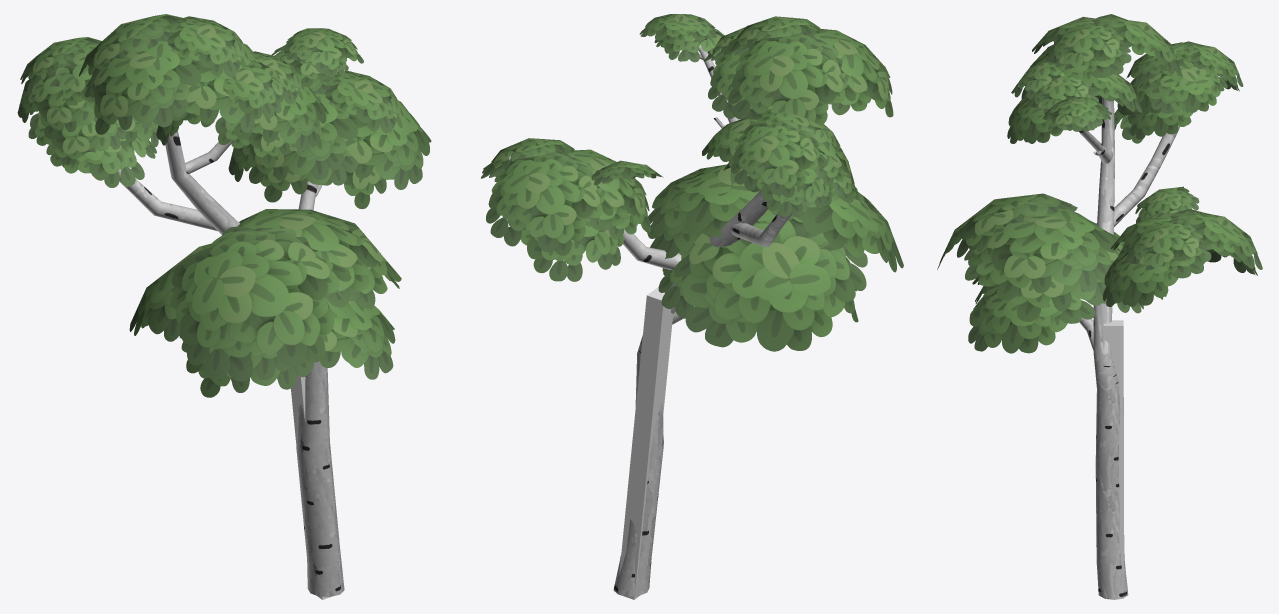
The model's file is birch_green3.glb.
3 views of the same model, side by side, from view 1: azimuth 30°, elevation 25°; view 2: azimuth 150°, elevation 25°; view 3: azimuth 270°, elevation 25° (orthographic). The views are drawn at different scales.
Parts seen in each view (by area): view 1: Birch_6, Cube.002; view 2: Birch_6, Cube.002; view 3: Birch_6, Cube.002.
Boxes of the visible parts, box(x1,y1,x2,y2) form: Birch_6: box(17, 14, 431, 596); Cube.002: box(291, 374, 331, 599); Birch_6: box(481, 14, 903, 596); Cube.002: box(619, 287, 673, 599); Birch_6: box(937, 14, 1262, 599); Cube.002: box(1103, 320, 1123, 598).
Bounding box in the file's own units: 12.75 × 18.9 × 11.07.
Materials: 2 (2 with a texture image).
